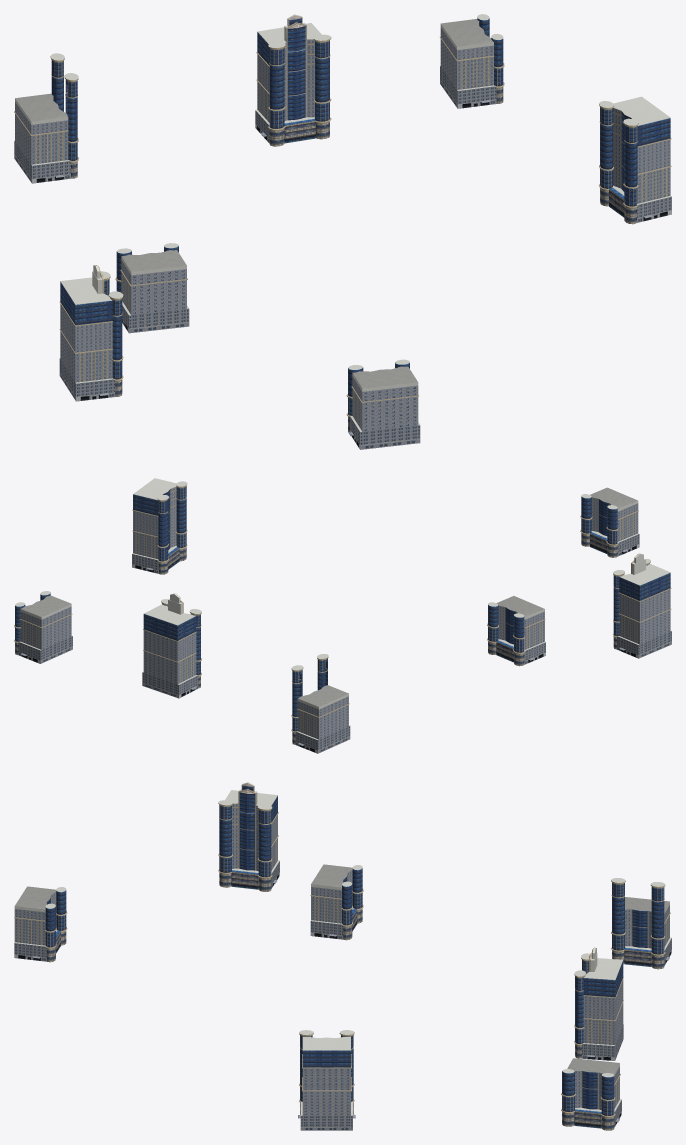
File: Singapore_track_building_city_04.dae
The picture shows the model from 3 angles, top to bottom: view 1: azimuth 30°, elevation 25°; view 2: azimuth 150°, elevation 25°; view 3: azimuth 270°, elevation 25°; orthographic projection. The views are drawn at different scales.
Parts seen in each view (by area): view 1: building_city_04_01, building_city_04_03, building_city_04_02, building_city_04_04, building_city_04_07, building_city_04_06, building_city_04_05; view 2: building_city_04_01, building_city_04_02, building_city_04_03, building_city_04_04, building_city_04_07, building_city_04_06, building_city_04_05; view 3: building_city_04_02, building_city_04_03, building_city_04_01, building_city_04_04, building_city_04_05, building_city_04_07, building_city_04_06.
Part boxes in pixels (x1=…): building_city_04_01: x1=255, y1=14, x2=331, y2=146; building_city_04_03: x1=599, y1=96, x2=671, y2=224; building_city_04_02: x1=59, y1=265, x2=123, y2=401; building_city_04_04: x1=14, y1=53, x2=78, y2=183; building_city_04_07: x1=346, y1=359, x2=420, y2=449; building_city_04_06: x1=115, y1=243, x2=189, y2=333; building_city_04_05: x1=440, y1=14, x2=504, y2=108; building_city_04_01: x1=142, y1=593, x2=201, y2=698; building_city_04_02: x1=613, y1=553, x2=671, y2=658; building_city_04_03: x1=132, y1=478, x2=187, y2=574; building_city_04_04: x1=291, y1=654, x2=350, y2=753; building_city_04_07: x1=580, y1=487, x2=639, y2=557; building_city_04_06: x1=487, y1=596, x2=545, y2=666; building_city_04_05: x1=14, y1=591, x2=72, y2=663; building_city_04_02: x1=218, y1=782, x2=279, y2=891; building_city_04_03: x1=298, y1=1030, x2=355, y2=1130; building_city_04_01: x1=574, y1=947, x2=623, y2=1060; building_city_04_04: x1=611, y1=878, x2=671, y2=969; building_city_04_05: x1=561, y1=1058, x2=621, y2=1130; building_city_04_07: x1=14, y1=886, x2=67, y2=962; building_city_04_06: x1=310, y1=864, x2=363, y2=940.
Size of the model in its own units: 104 by 111 by 18.71.
Materials: 3 (3 with a texture image).
